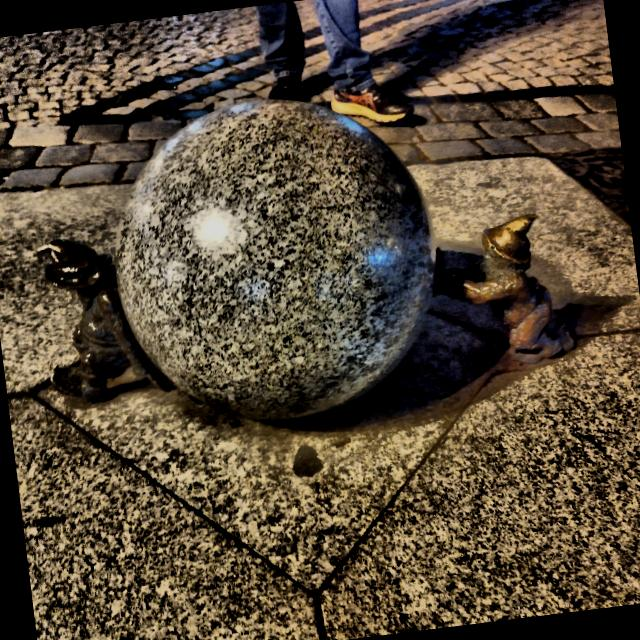Syzyfki: (29, 92, 588, 437)
